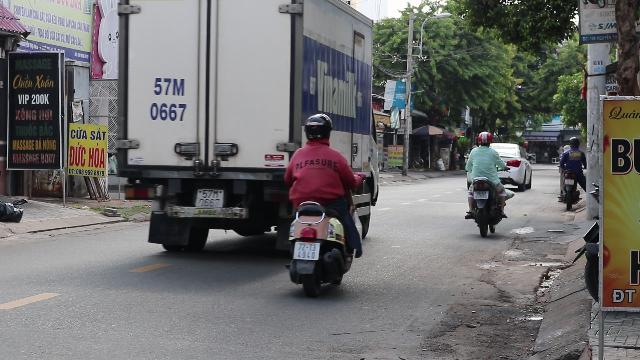helmet: (301, 112, 333, 144), (476, 131, 492, 146)
licenseplate: (292, 242, 320, 260), (474, 191, 488, 199)
motorcyclist: (280, 111, 366, 297), (462, 130, 512, 234)
